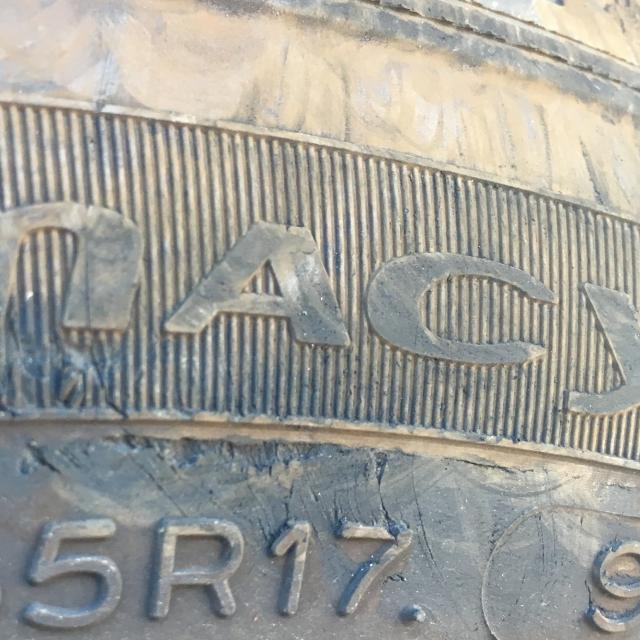Cracks: (0, 250, 640, 603)
